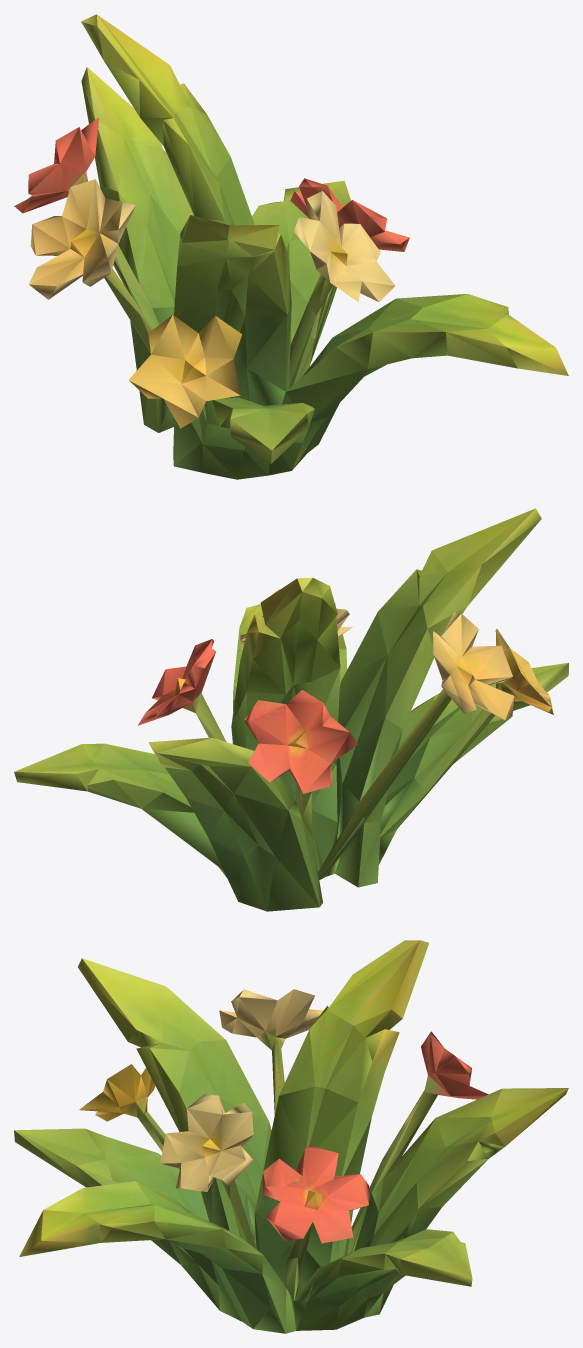
Rendered from ground_cover.glb.
3 renders of one model, top to bottom at view 1: azimuth 30°, elevation 25°; view 2: azimuth 150°, elevation 25°; view 3: azimuth 270°, elevation 25°, orthographic. The views are drawn at different scales.
Parts seen in each view (by area): view 1: tripo_node_5f47dd3c-e940-4c99-9d22-6a33646ce498; view 2: tripo_node_5f47dd3c-e940-4c99-9d22-6a33646ce498; view 3: tripo_node_5f47dd3c-e940-4c99-9d22-6a33646ce498.
Boxes of the visible parts, x1,y1,x2,y2 form: tripo_node_5f47dd3c-e940-4c99-9d22-6a33646ce498: [14, 14, 568, 479]; tripo_node_5f47dd3c-e940-4c99-9d22-6a33646ce498: [14, 508, 568, 911]; tripo_node_5f47dd3c-e940-4c99-9d22-6a33646ce498: [14, 940, 568, 1333].
Bounding box in the file's own units: 3.83 × 3.37 × 5.01.
1 material, 1 textured.
